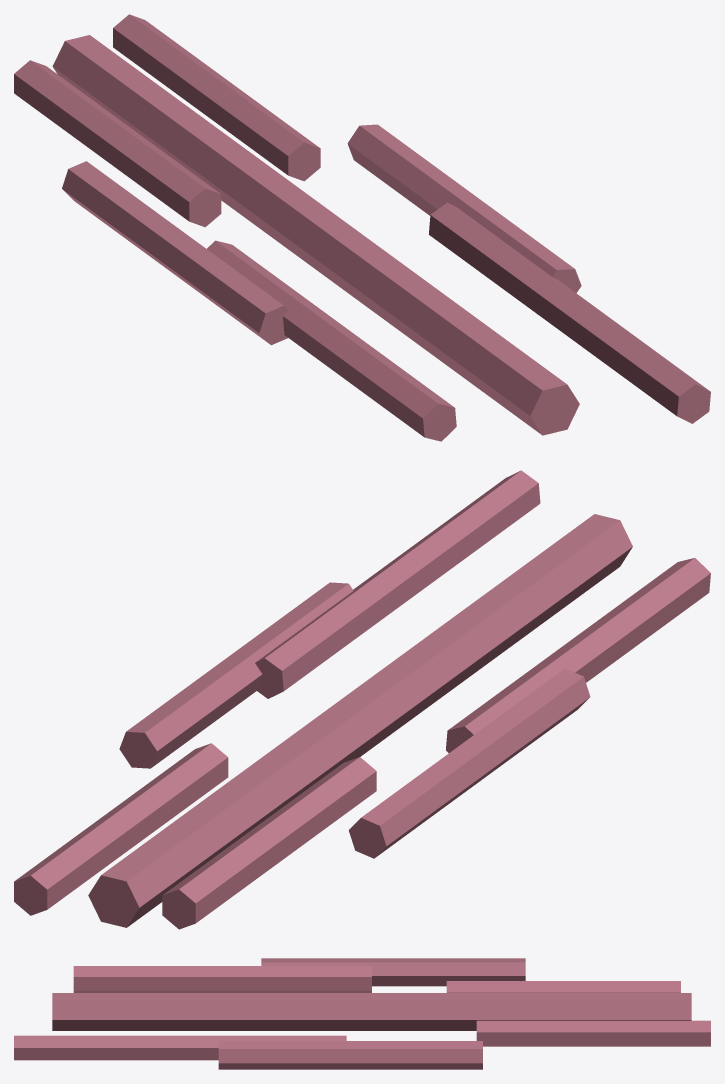
Rendered from red_algae.glb.
3 views of the same model, one above another, from view 1: azimuth 30°, elevation 25°; view 2: azimuth 150°, elevation 25°; view 3: azimuth 270°, elevation 25° (orthographic). The views are drawn at different scales.
Visible parts, largest first — view 1: world; view 2: world; view 3: world.
Boxes of the visible parts, left/top/right/bottom form: world: left=14, top=14, right=710, bottom=441; world: left=14, top=470, right=710, bottom=929; world: left=14, top=958, right=710, bottom=1069.
Size of the model in its own units: 0.5265 by 0.0779 by 1.63.
